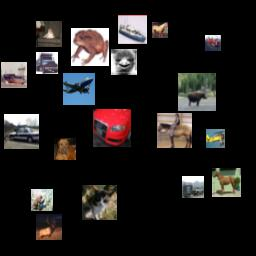airplane: (63, 73, 95, 105), (206, 129, 225, 148)
automobile: (93, 109, 131, 147), (4, 114, 39, 149)
bird: (111, 49, 137, 75)
cat: (82, 185, 117, 220), (36, 21, 62, 47)
deer: (178, 73, 216, 111), (36, 214, 62, 240)
dog: (54, 138, 76, 160)
frog: (71, 28, 109, 66), (31, 189, 53, 211)
ship: (118, 15, 147, 44), (1, 62, 27, 88)
truck: (182, 176, 204, 198), (36, 52, 58, 74), (205, 35, 221, 51)
